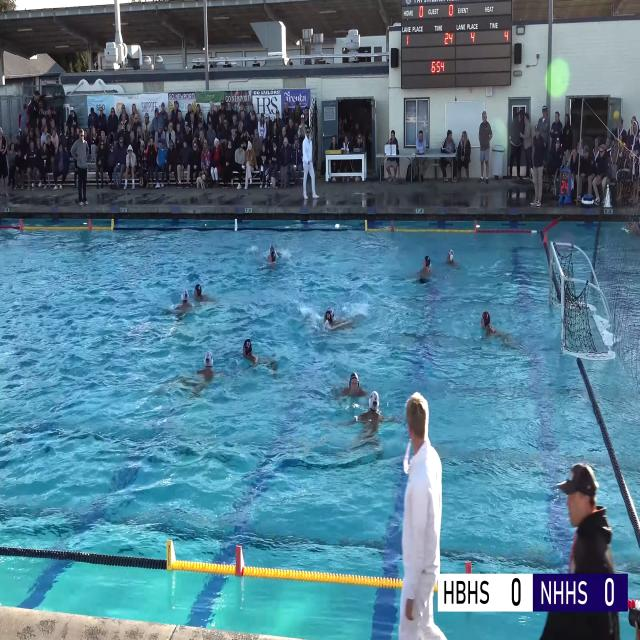ball: (614, 110, 619, 120)
